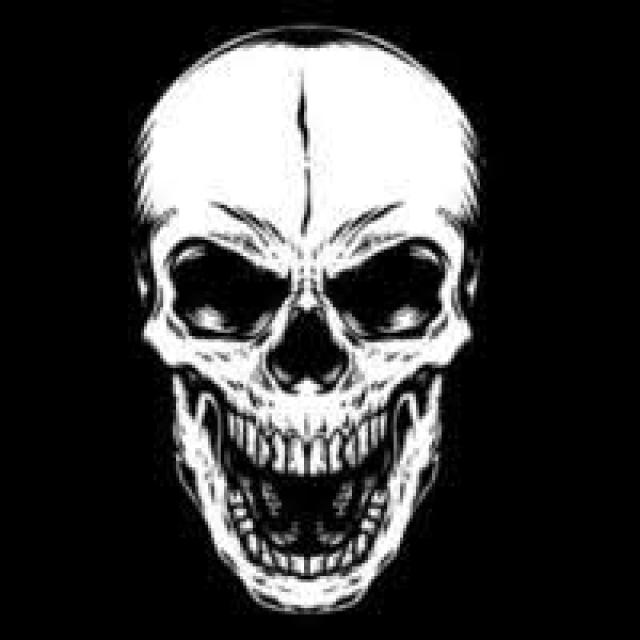skull: (122, 26, 491, 614)
